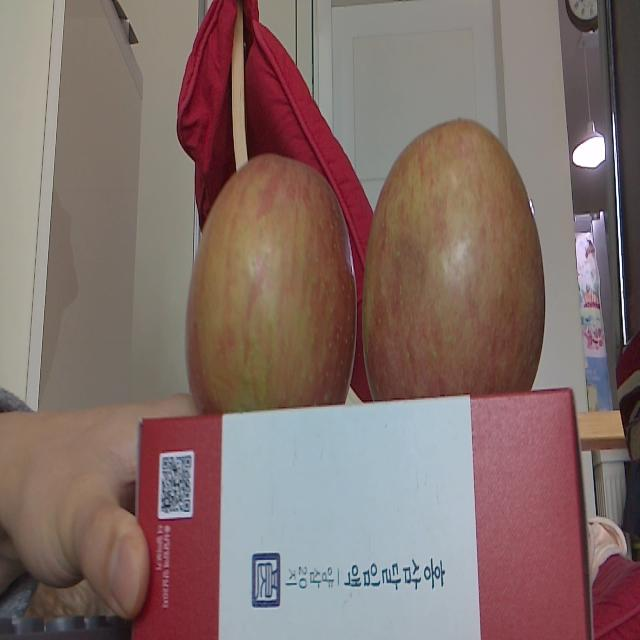apple: (363, 118, 544, 393), (187, 153, 355, 405)
